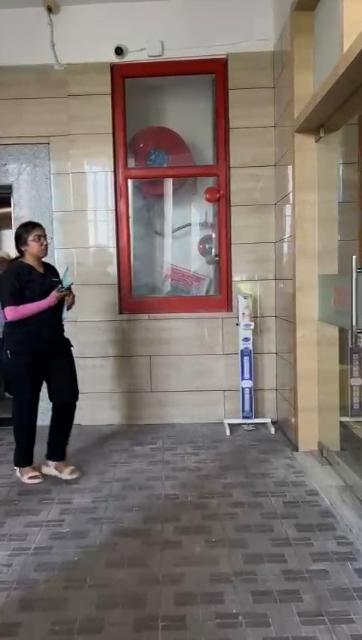door: (324, 140, 362, 452)
floor: (3, 425, 361, 634)
moving-obj: (0, 213, 92, 493)
wall: (82, 320, 232, 420), (235, 65, 293, 288), (55, 151, 113, 265), (7, 72, 103, 140), (82, 266, 114, 326)
